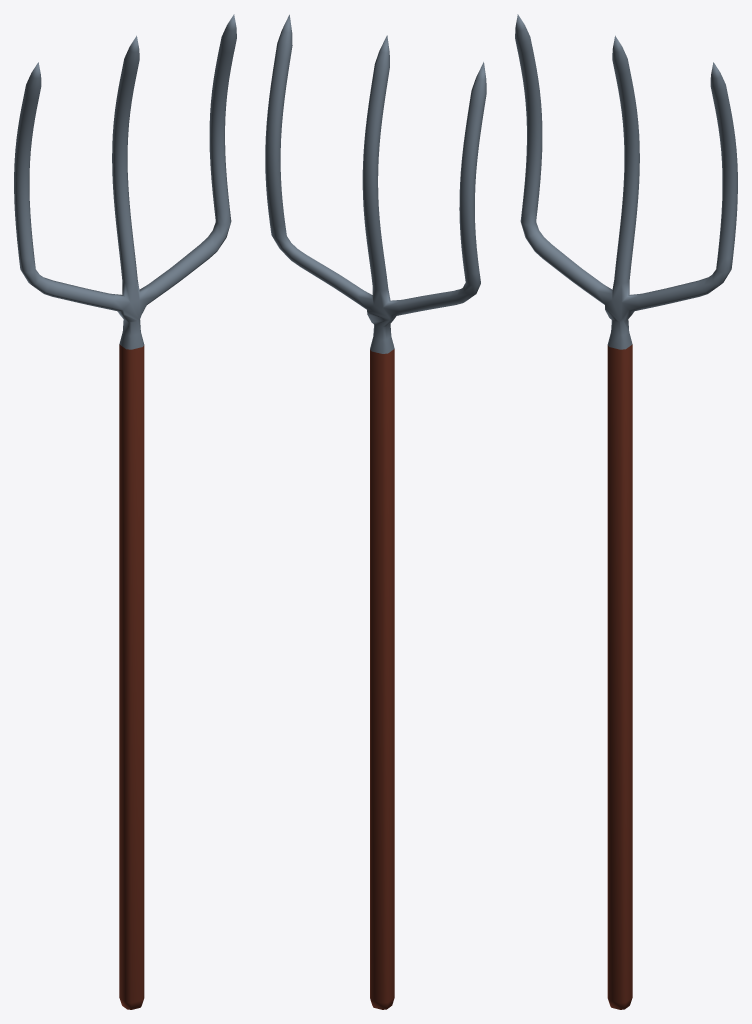
The model's file is pitchfork.fbx.
The picture shows the model from 3 angles, left to right: view 1: azimuth 30°, elevation 25°; view 2: azimuth 150°, elevation 25°; view 3: azimuth 330°, elevation 25°; orthographic projection.
Visible parts, largest first — view 1: pitckfork; view 2: pitckfork; view 3: pitckfork.
Boxes of the visible parts, x1=… form: pitckfork: x1=14, y1=14, x2=236, y2=1009; pitckfork: x1=265, y1=14, x2=486, y2=1009; pitckfork: x1=515, y1=14, x2=737, y2=1009.
Size of the model in its own units: 89.7 by 403 by 15.77.
